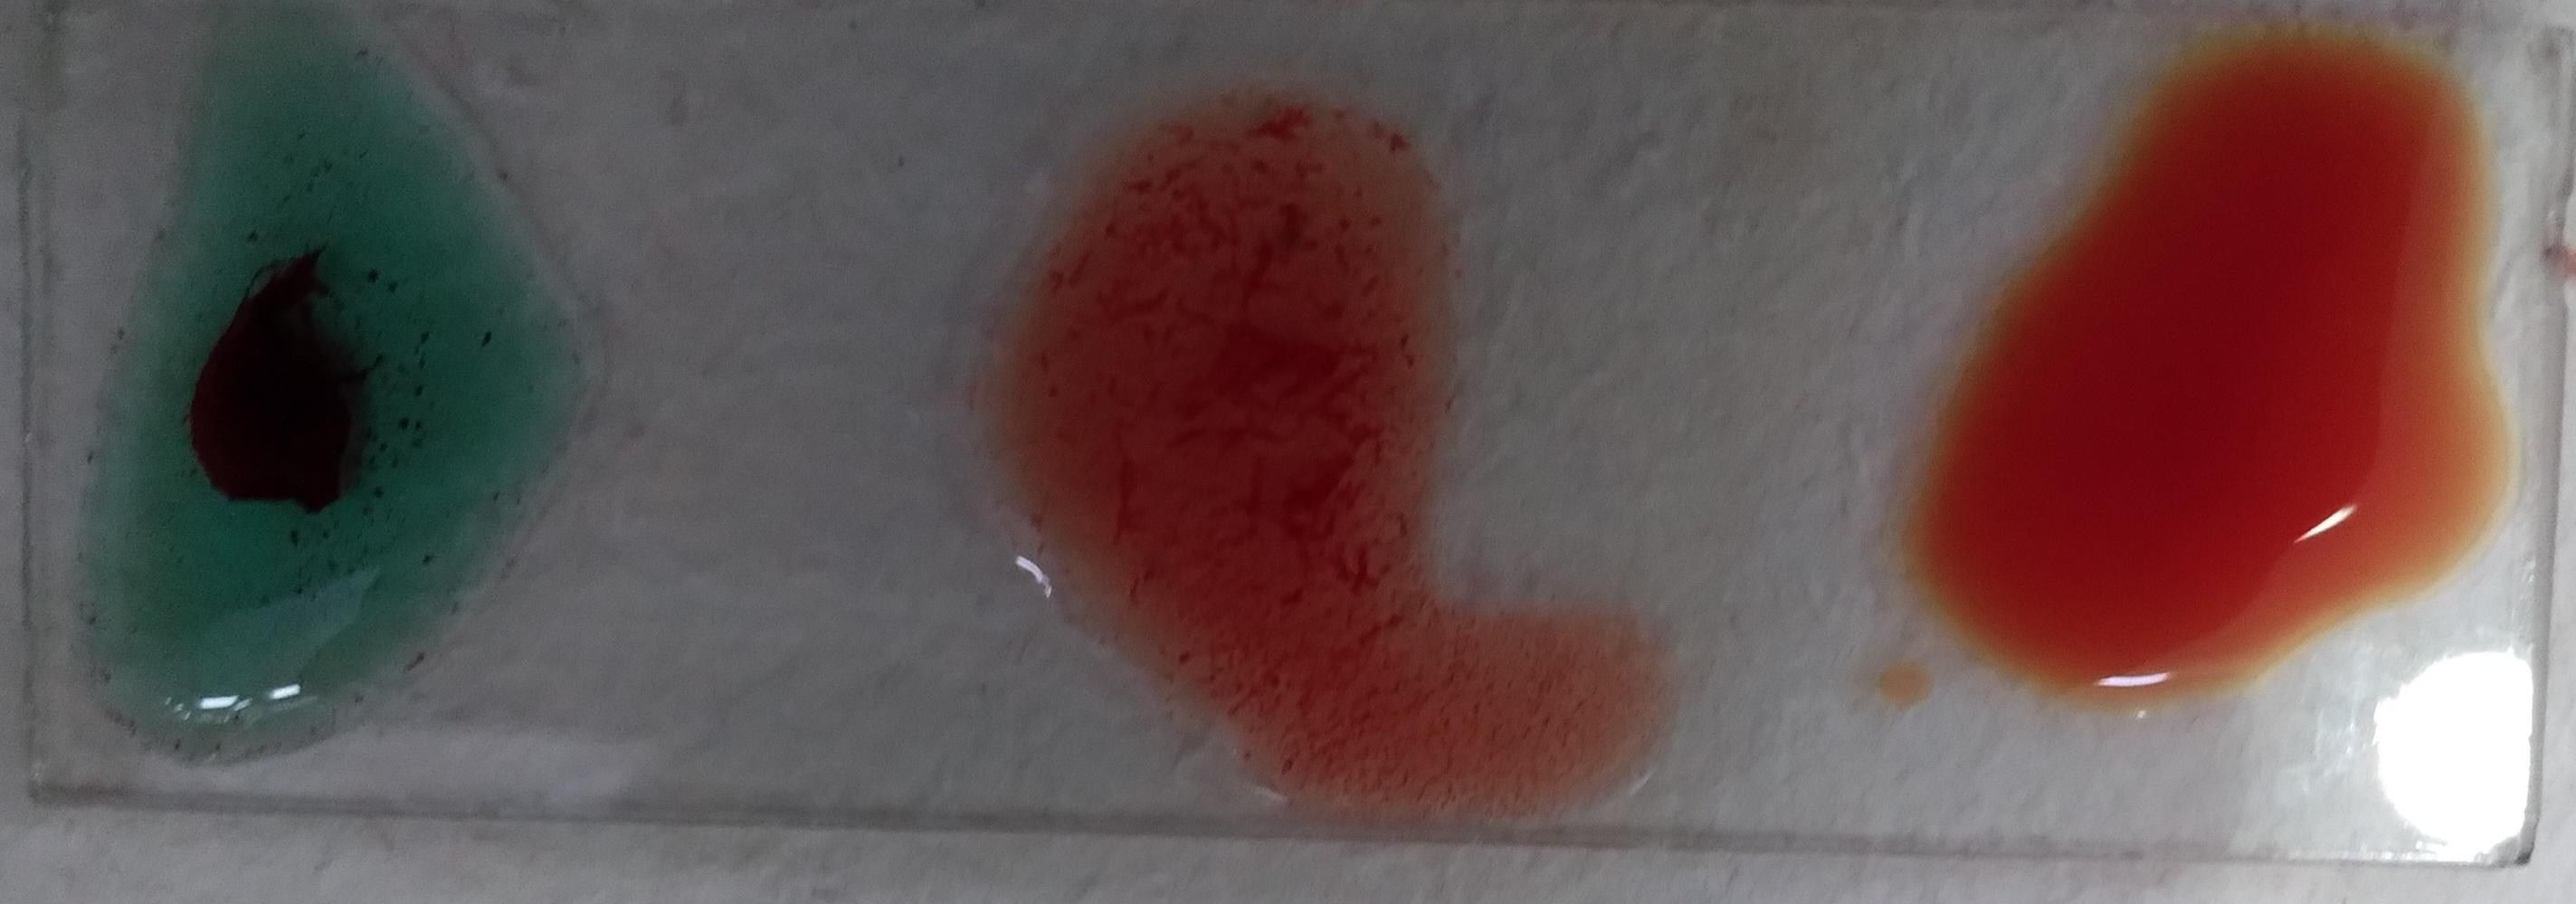A: (2050, 145, 2507, 892)
D: (1005, 64, 1607, 822)
